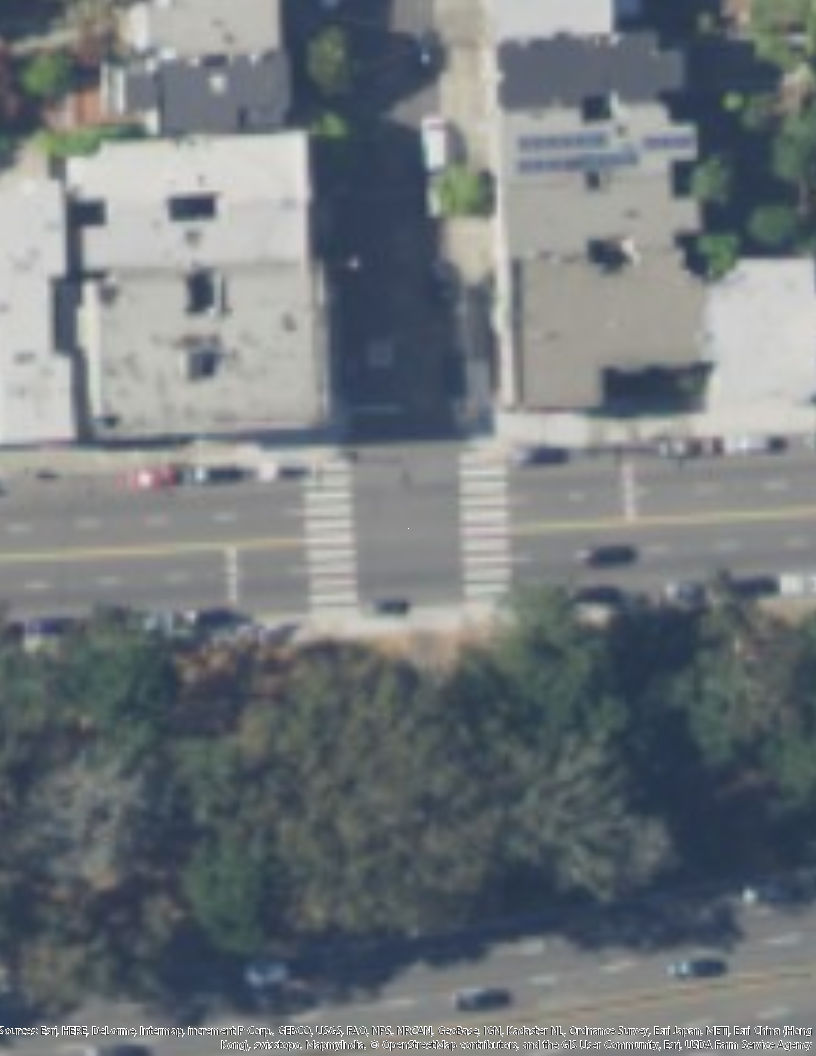zebracross: (302, 465, 359, 616), (457, 452, 512, 607)
